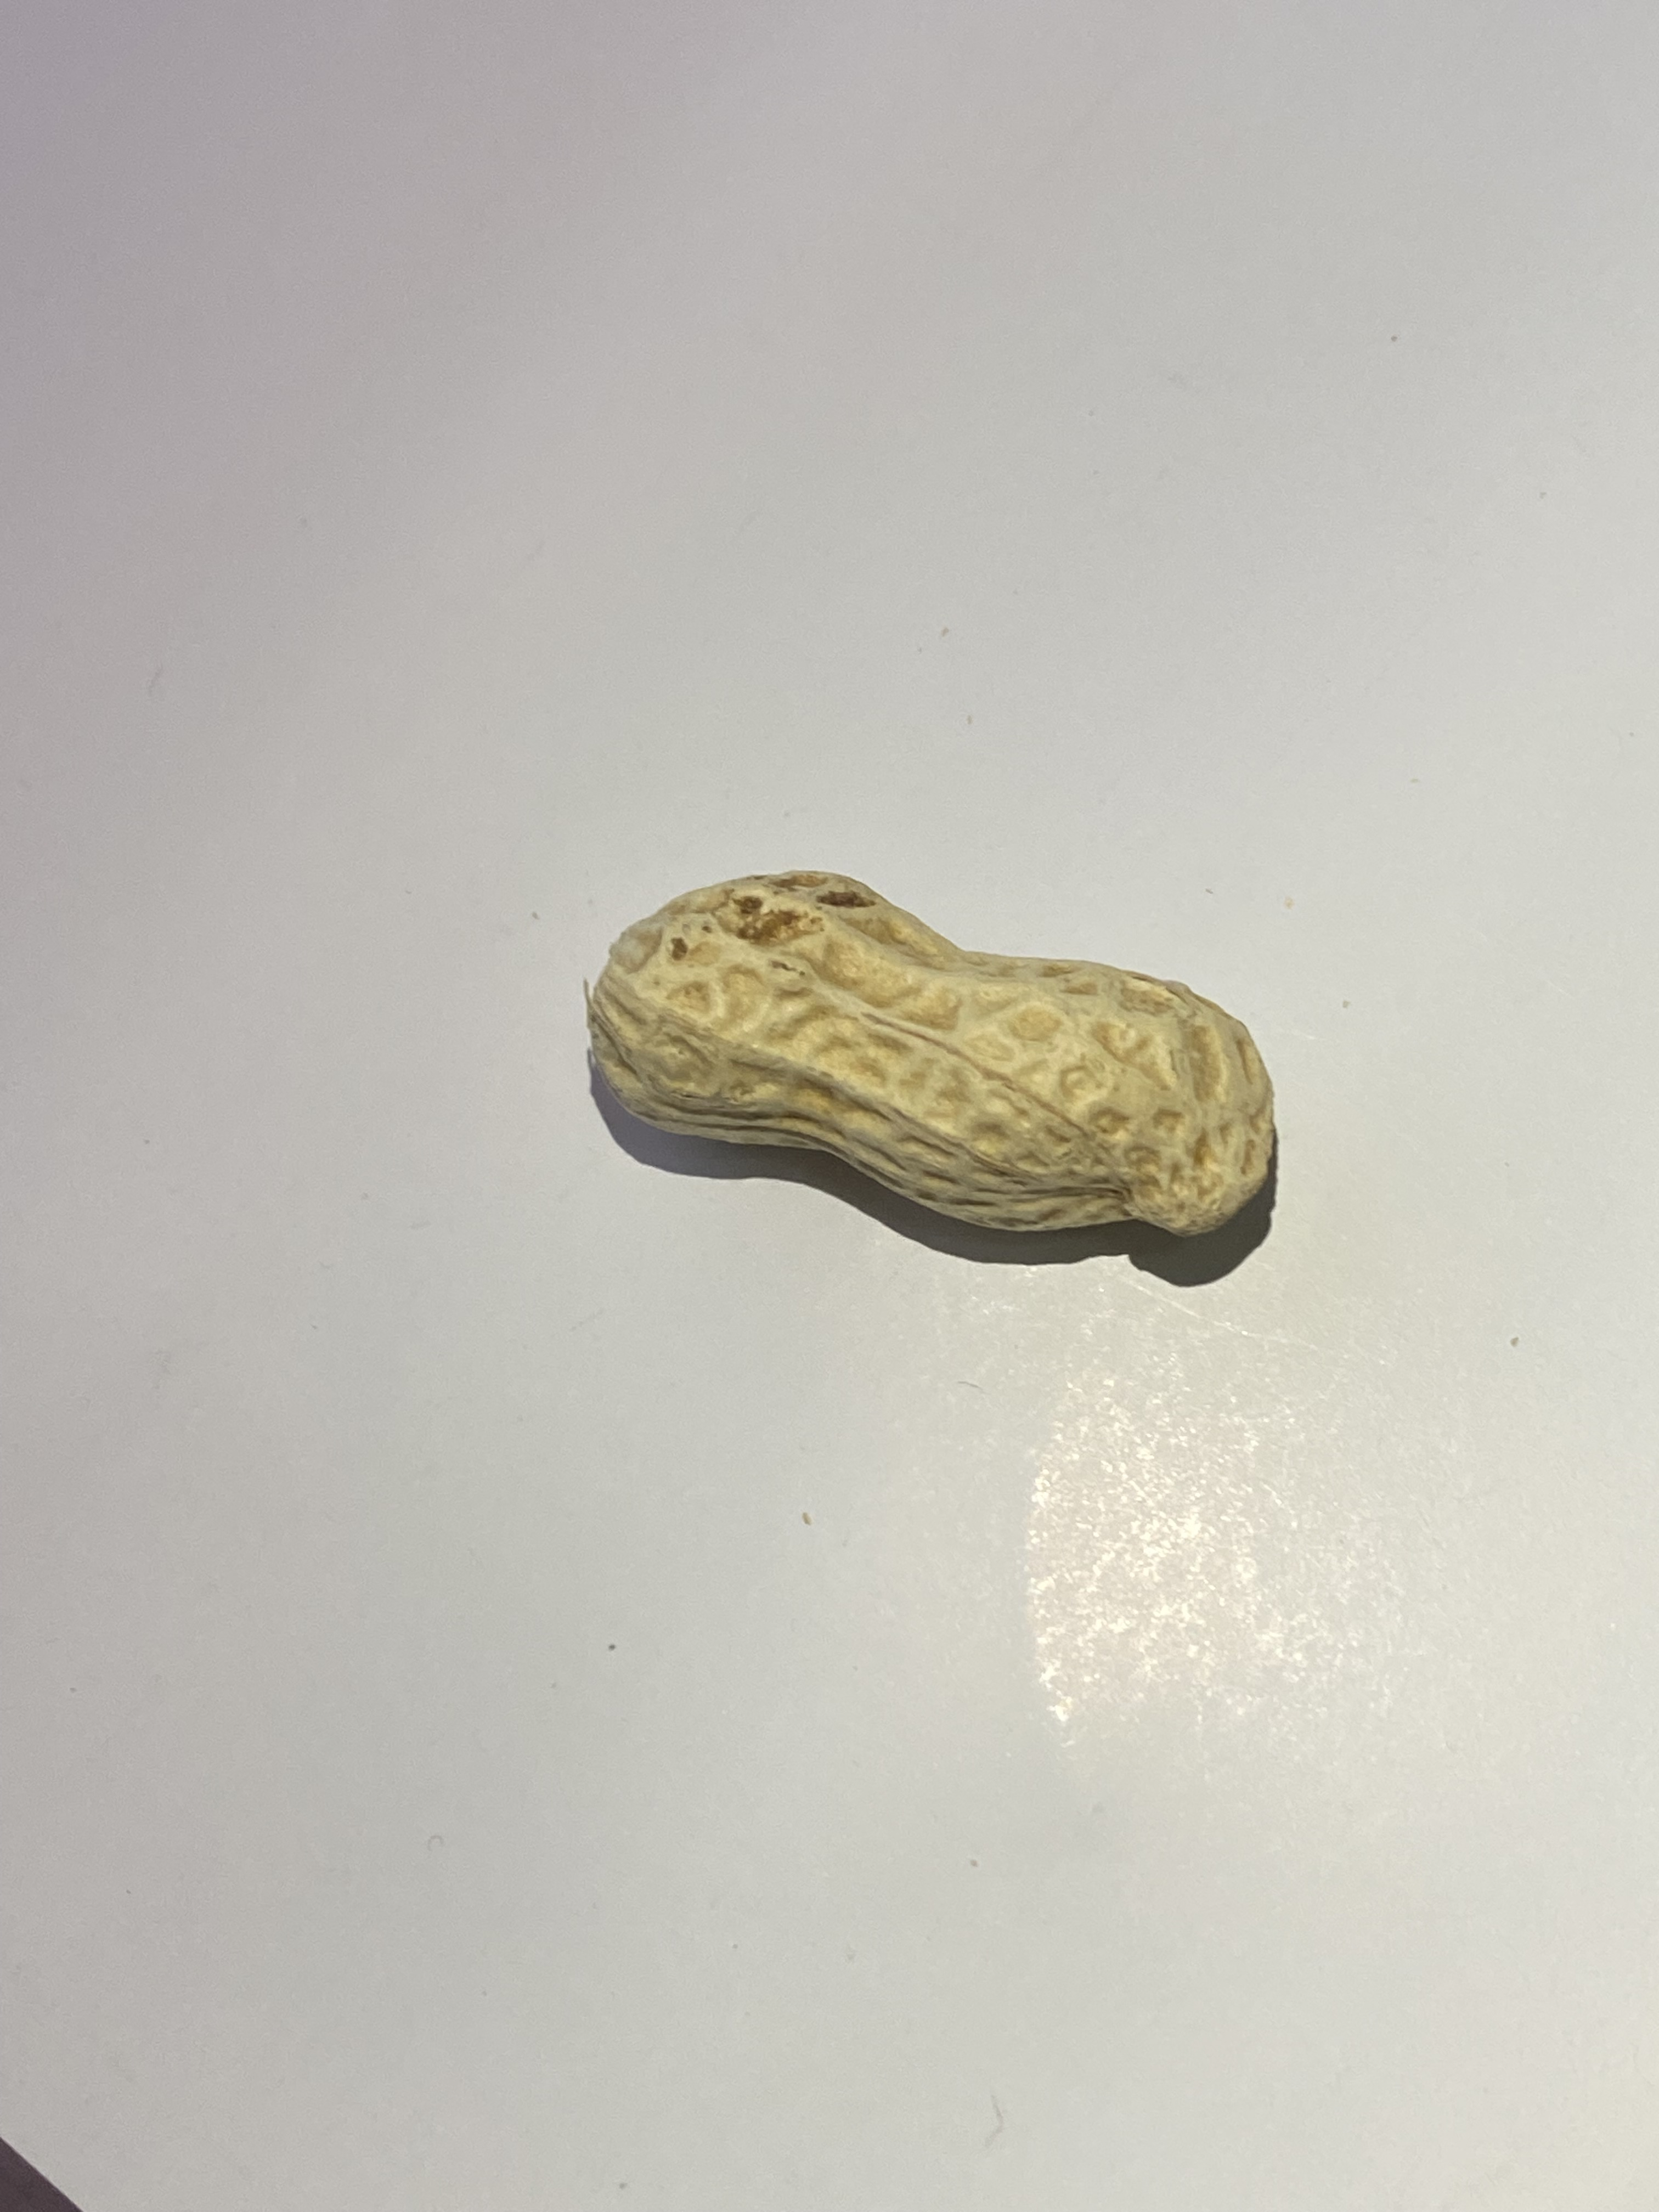kacang2: (558, 841, 1314, 1284)
